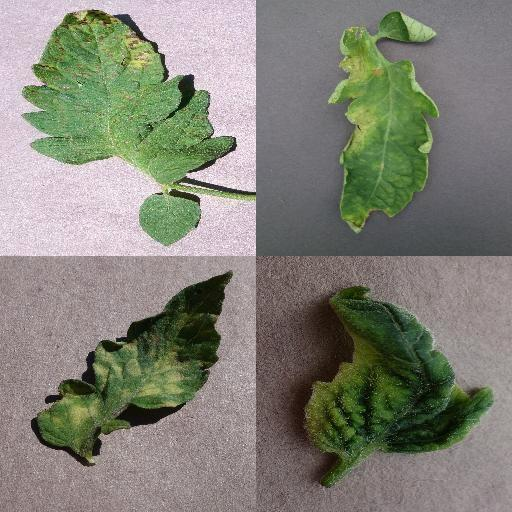Healthy: (140, 193, 202, 245)
Late Blight: (326, 26, 440, 234)
Leaf Mold: (39, 271, 234, 465)
Septoria: (21, 8, 236, 182)
Yellow Leaf Curl Virus: (303, 286, 495, 458)
